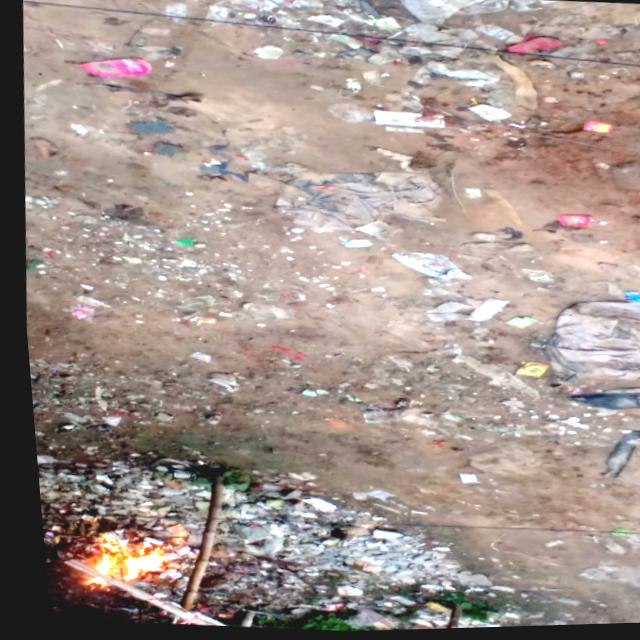Fire: (67, 537, 166, 595)
